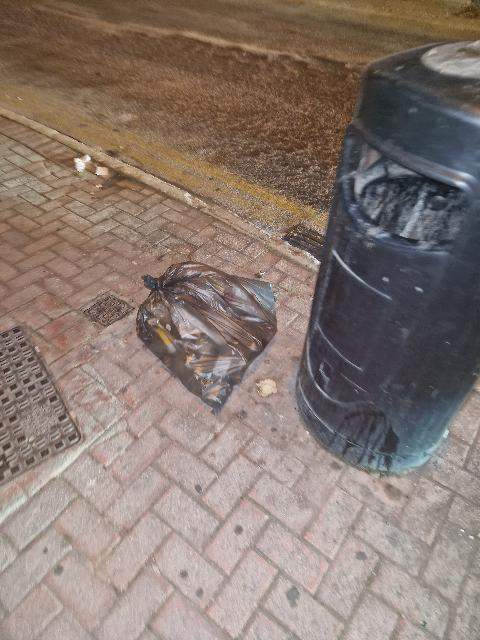Recyclable -Grey-: (136, 262, 277, 412)
